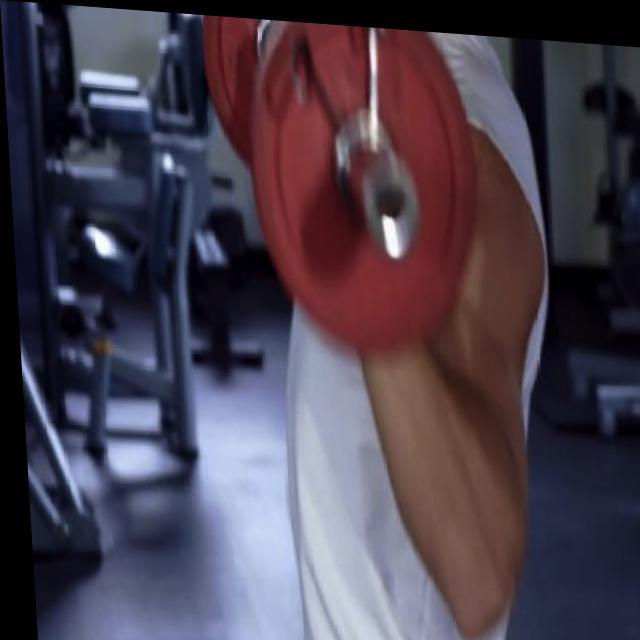barbell: (244, 15, 486, 360)
